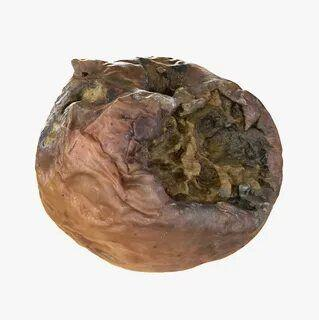Apple: (34, 57, 282, 273)
